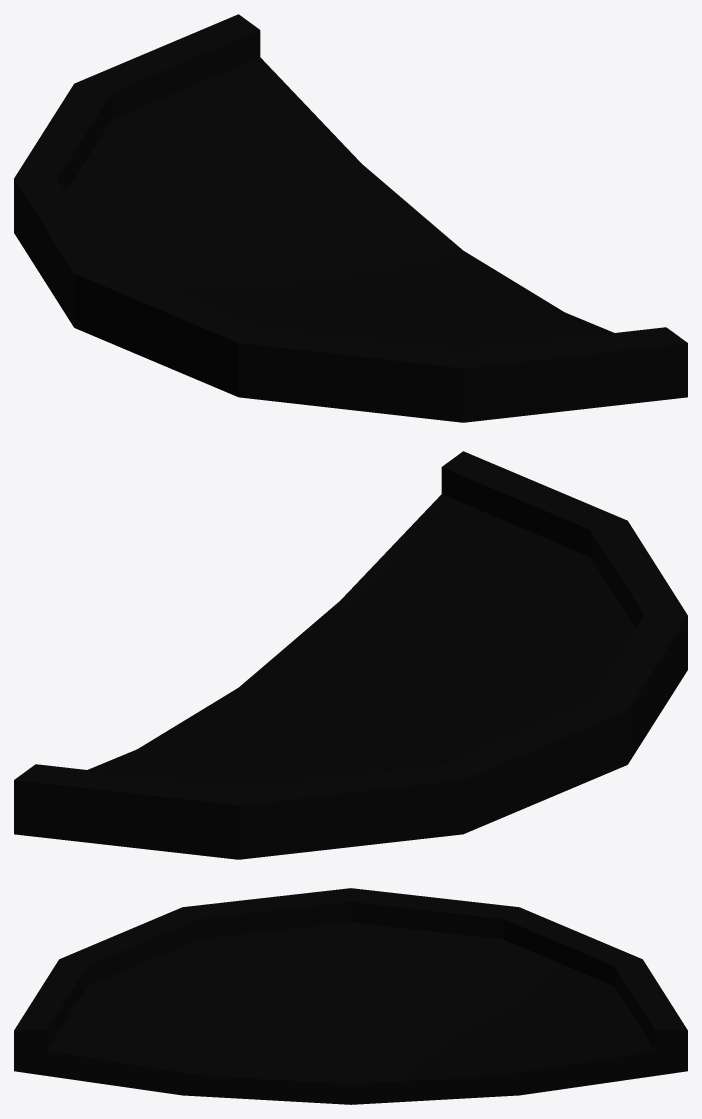
File: PF_FountainTop.fbx
3 renders of one model, top to bottom at view 1: azimuth 30°, elevation 25°; view 2: azimuth 150°, elevation 25°; view 3: azimuth 270°, elevation 25°, orthographic. The views are drawn at different scales.
Parts seen in each view (by area): view 1: pCylinder2; view 2: pCylinder2; view 3: pCylinder2.
Part boxes in pixels (x1=…): pCylinder2: x1=14, y1=14, x2=687, y2=422; pCylinder2: x1=14, y1=451, x2=687, y2=859; pCylinder2: x1=14, y1=888, x2=687, y2=1104.
Bounding box in the file's own units: 75 × 18.25 × 150.
